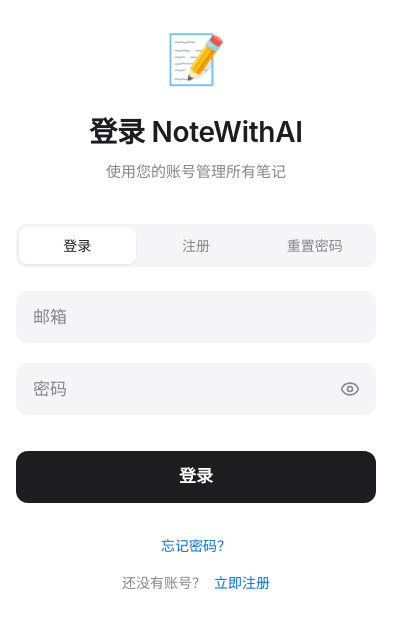
Scenario: authentication form accessibility › exposes the verification code by name in registration mode
Click the button "注册" at (196, 245), box [138,227,254,264]
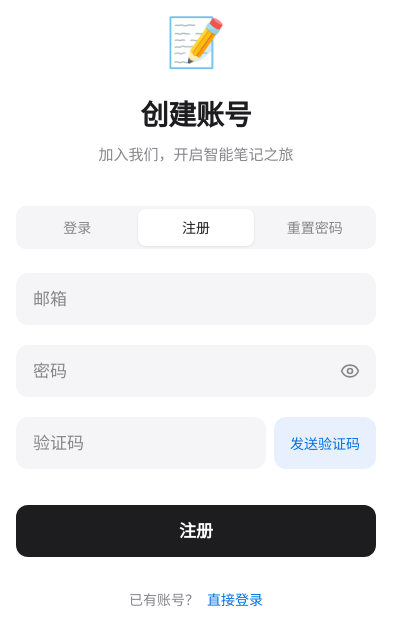
Check: the field labelled "验证码" is shown, box [16,417,266,469]
Click the button "重置密码" at (315, 228), box [256,209,373,246]
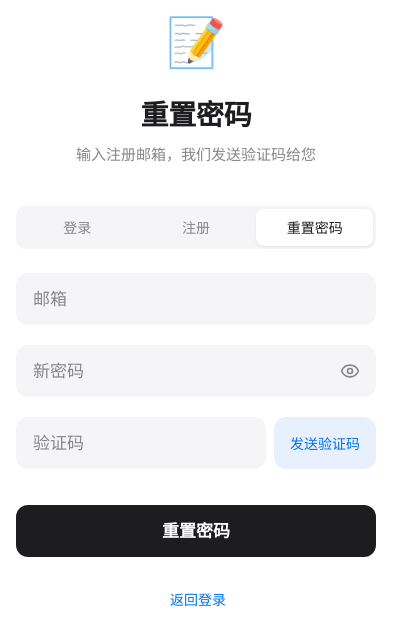
Check: the field labelled "邮箱" is shown, box [16,273,376,325]
Check: the field labelled "验证码" is shown, box [16,417,266,469]
Check: the password field labelled "新密码" is shown, box [16,345,376,397]
